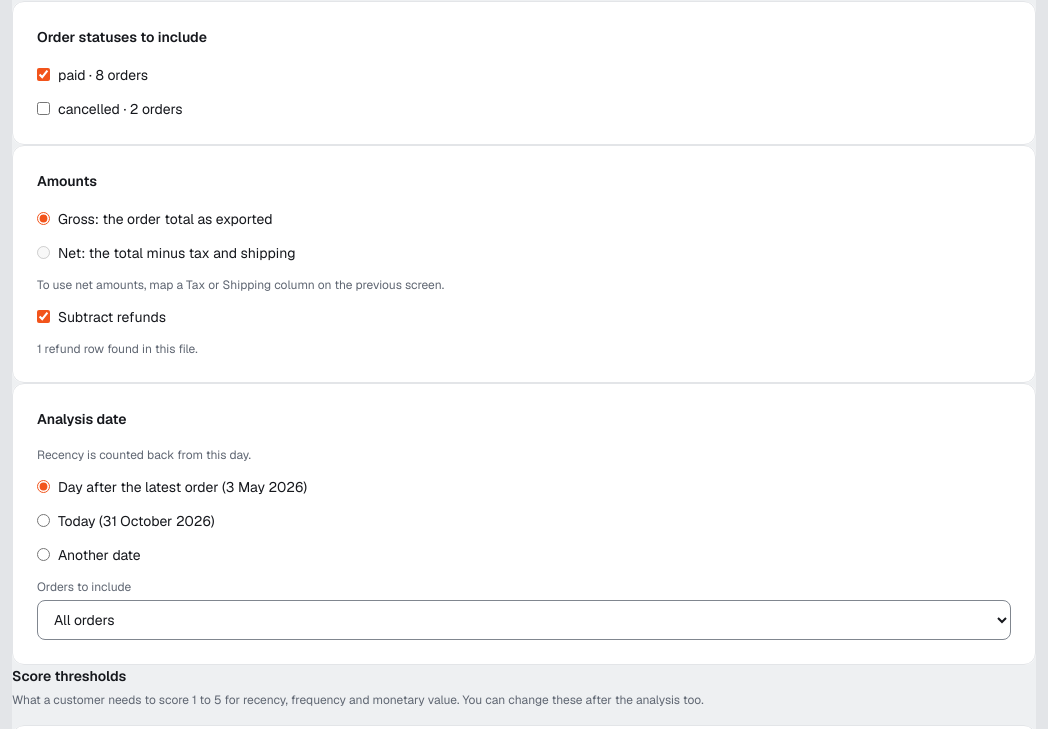
Test case: CleanScreen (story 3) › counts orders after a chosen analysis date
Click the radio button labelled "Another date" at (44, 554), box [37, 548, 50, 561]
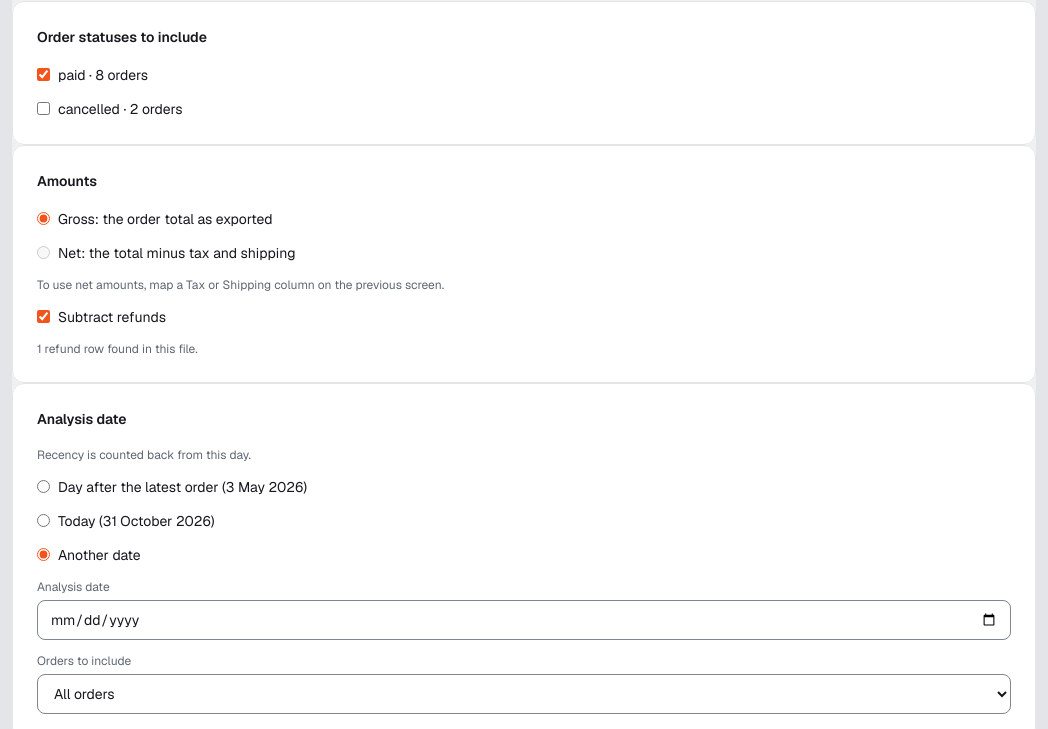
Type "2026-04-30" into the date field labelled "Analysis date" at (524, 620), box [37, 600, 1011, 640]
(page scrolled)
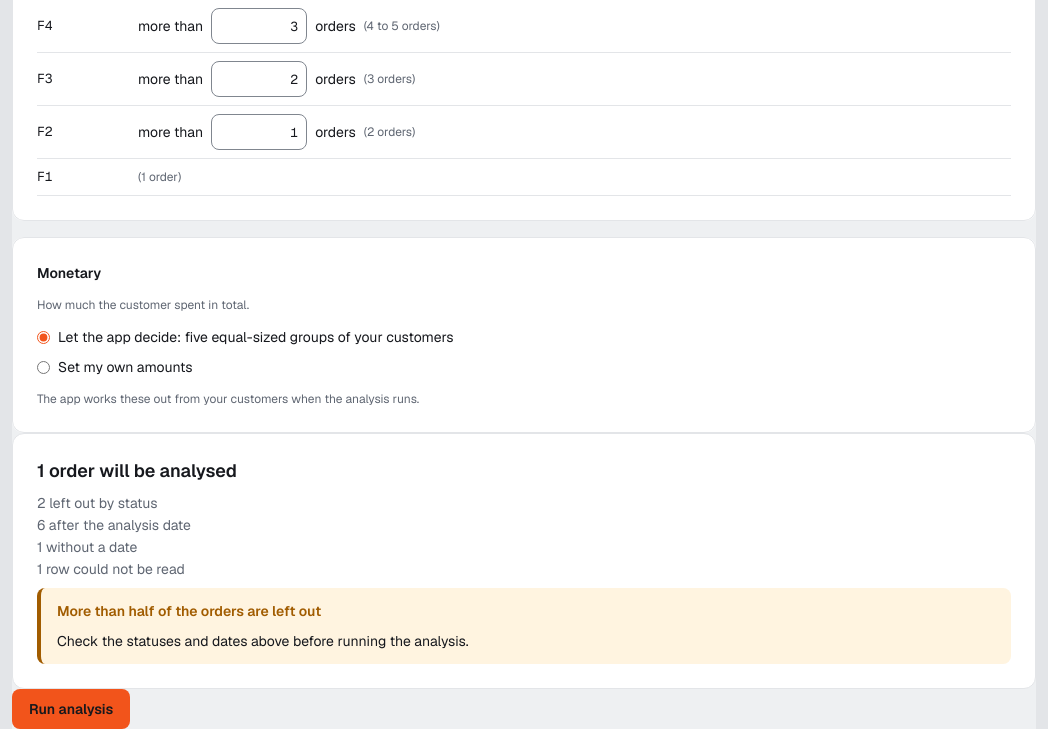
expect the element with test id "exclusion-counts" shows "6 after the analysis date": met, box [12, 433, 1036, 689]
